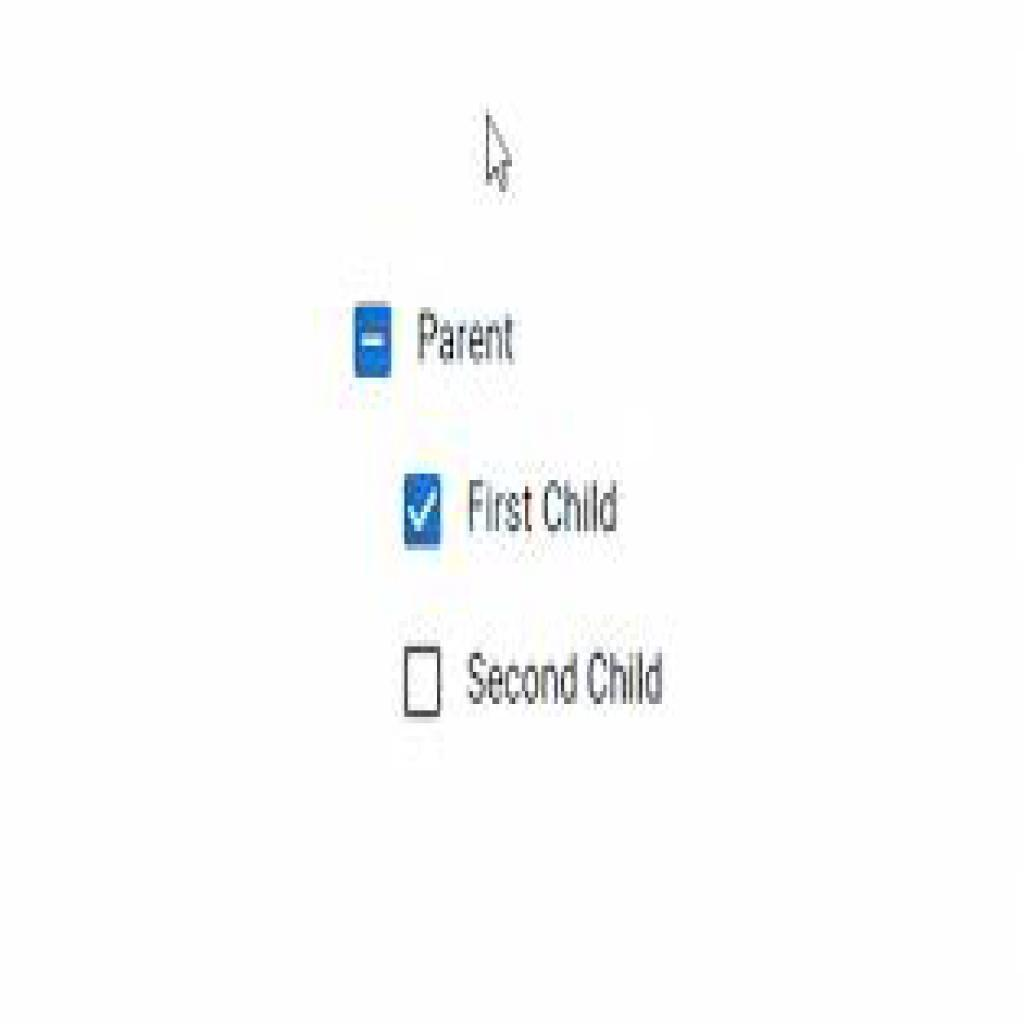checkbox: (352, 302, 395, 378), (402, 475, 444, 551), (406, 646, 443, 718)
